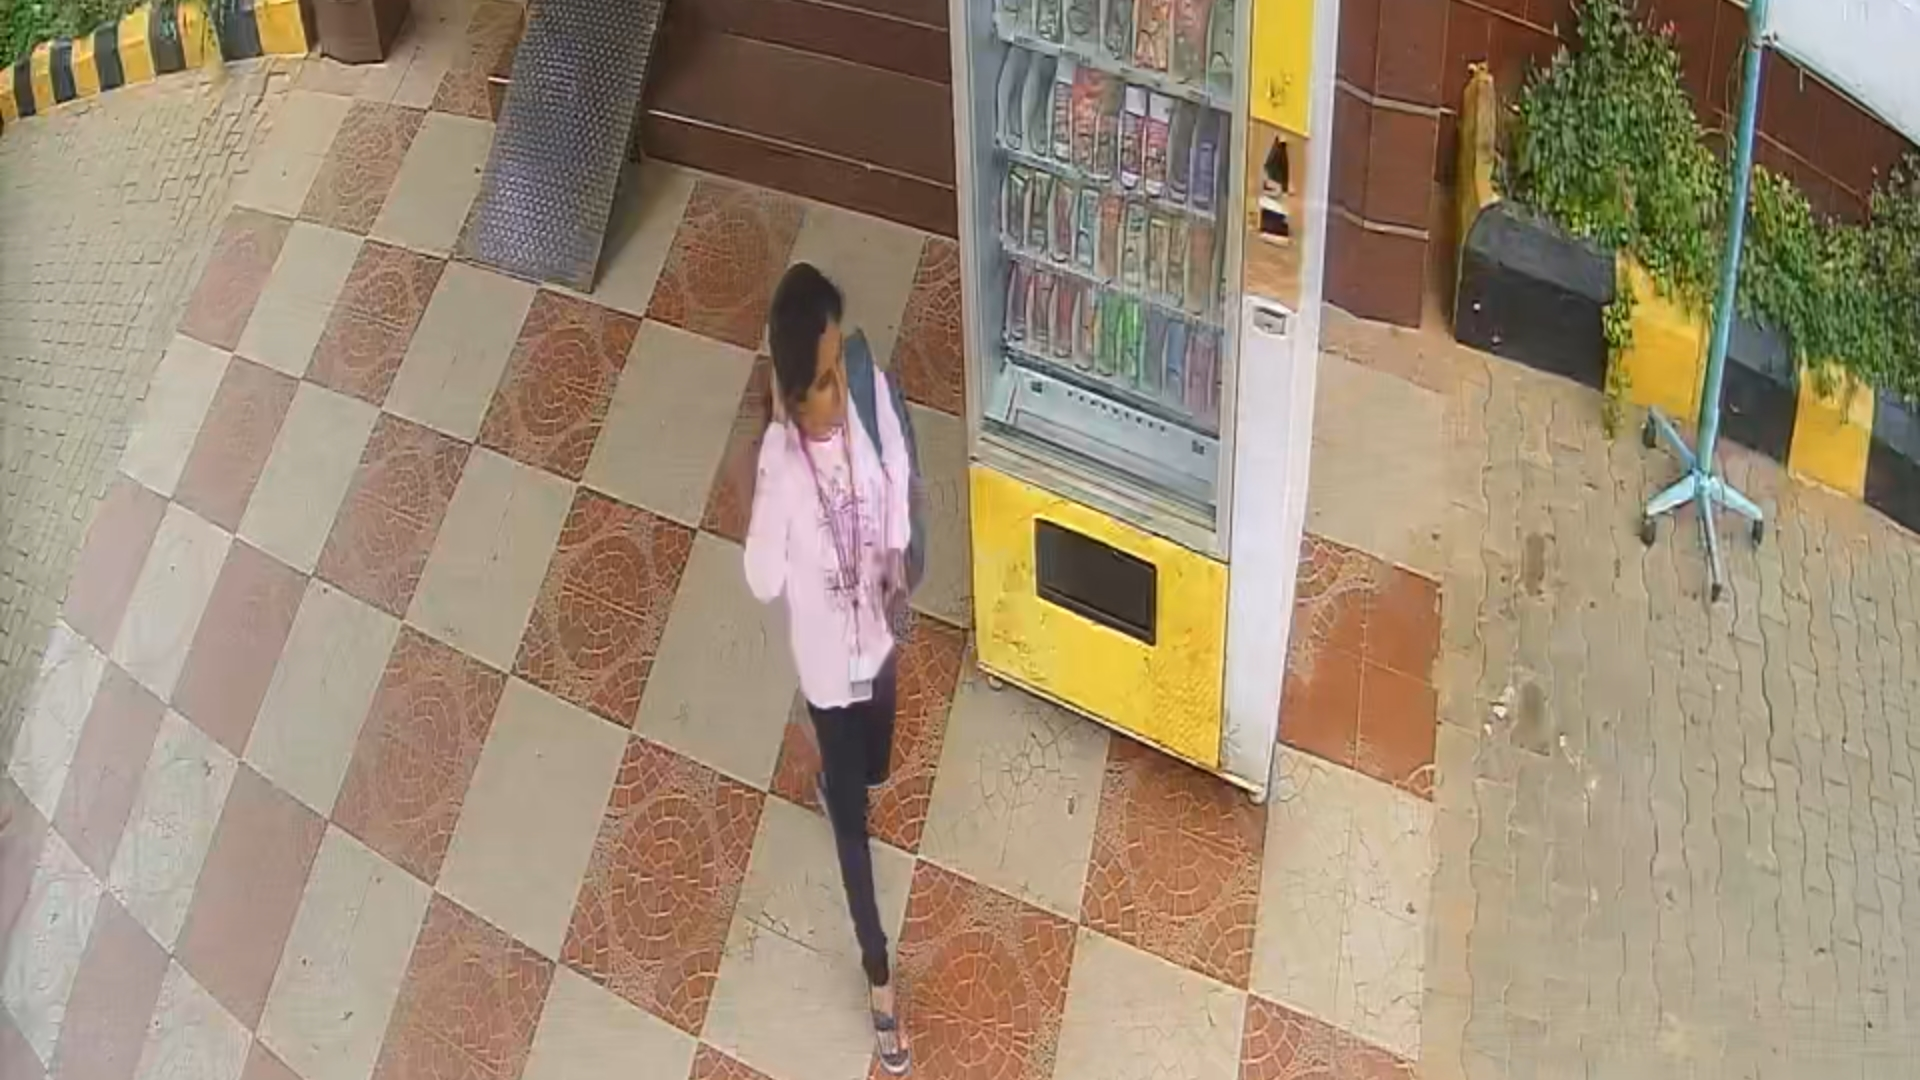not intruder: (742, 247, 911, 1062)
